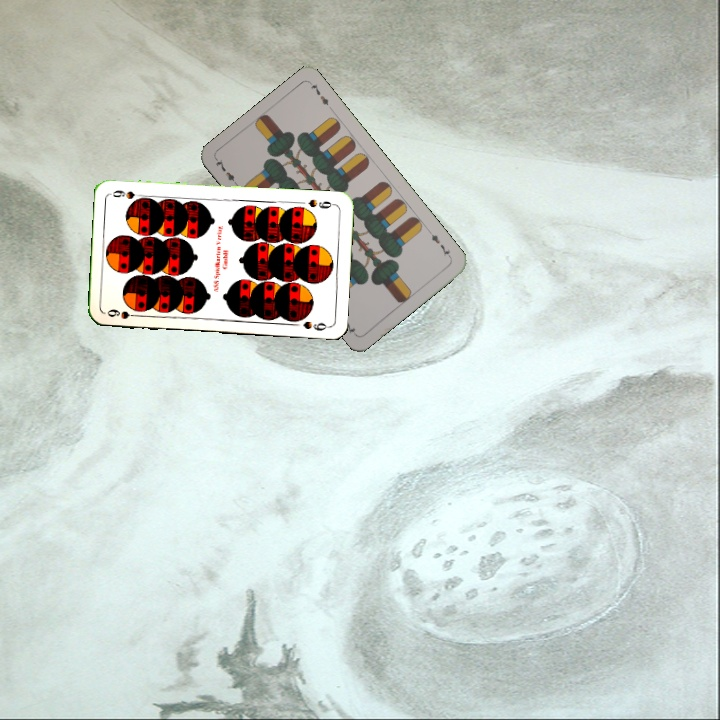E7: (425, 226, 454, 261), (212, 155, 241, 190)
S9: (103, 304, 143, 322), (304, 195, 338, 211)
